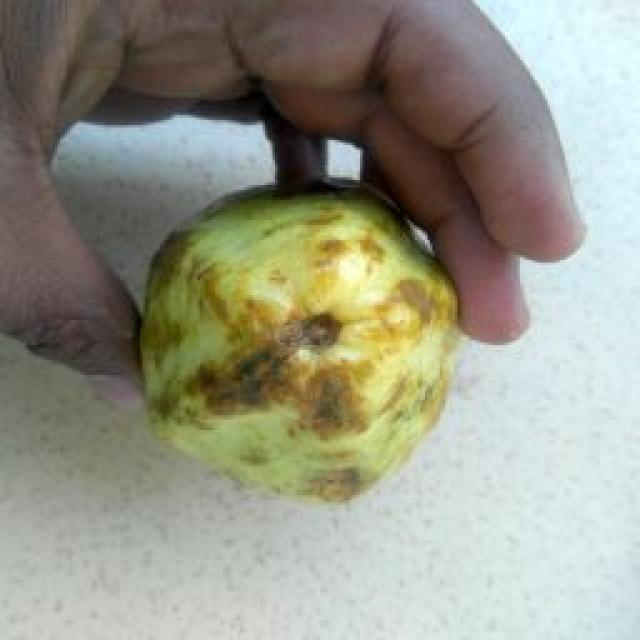Bad_Guava: (140, 186, 459, 501)
